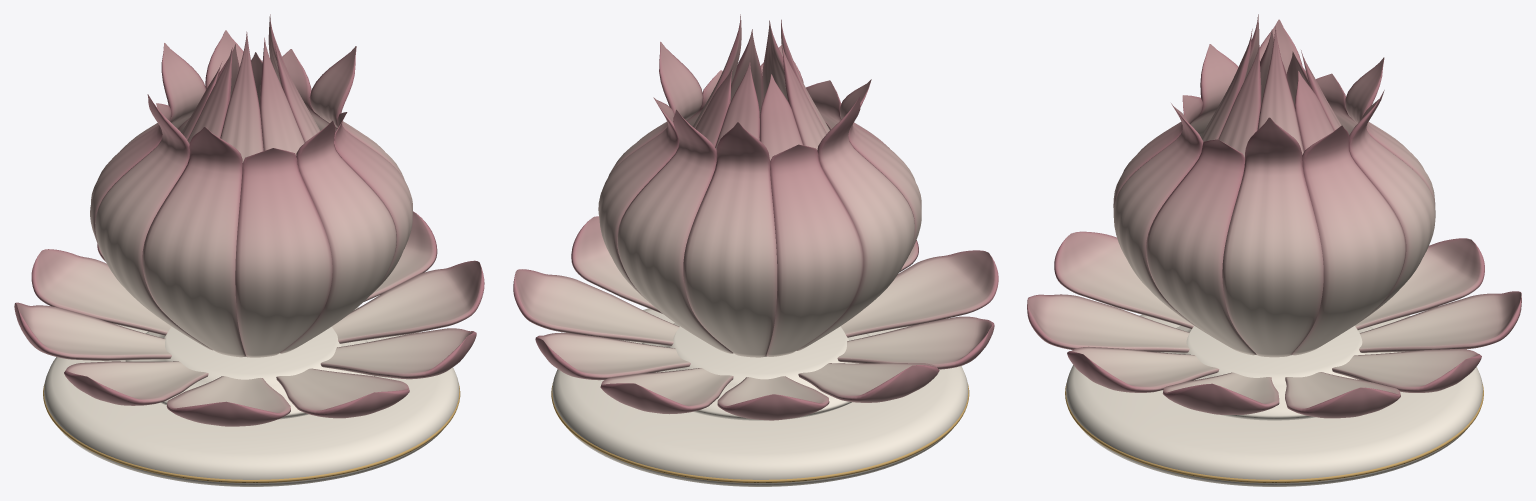
File: lotus-lantern.glb
3 views of the same model, side by side, from view 1: azimuth 30°, elevation 25°; view 2: azimuth 150°, elevation 25°; view 3: azimuth 270°, elevation 25° (orthographic).
Parts seen in each view (by area): view 1: Porcelain_Pedestal, Petal_Middle_10, Petal_Middle_09, Petal_Middle_01, Petal_Middle_08, Petal_Outer_03, Petal_Outer_07, Petal_Outer_08, Pedestal_Raised_Foot, Petal_Outer_02, Petal_Outer_09, Petal_Outer_01 (+14 smaller); view 2: Porcelain_Pedestal, Petal_Middle_06, Petal_Middle_07, Petal_Middle_05, Petal_Middle_08, Petal_Outer_10, Petal_Outer_04, Pedestal_Raised_Foot, Petal_Outer_09, Petal_Outer_05, Petal_Middle_04, Petal_Outer_06 (+15 smaller); view 3: Porcelain_Pedestal, Petal_Middle_03, Petal_Middle_04, Petal_Middle_02, Petal_Outer_01, Petal_Outer_06, Petal_Middle_01, Pedestal_Raised_Foot, Petal_Outer_10, Petal_Middle_05, Petal_Outer_07, Petal_Outer_02 (+14 smaller).
Boxes of the visible parts, <box> form: Porcelain_Pedestal: <box>44,307,459,486</box>; Petal_Middle_10: <box>235,148,332,357</box>; Petal_Middle_09: <box>142,127,245,357</box>; Petal_Middle_01: <box>280,120,396,353</box>; Petal_Middle_08: <box>95,94,212,350</box>; Petal_Outer_03: <box>331,260,484,343</box>; Petal_Outer_07: <box>31,249,171,335</box>; Petal_Outer_08: <box>14,302,171,360</box>; Pedestal_Raised_Foot: <box>125,327,375,419</box>; Petal_Outer_02: <box>320,328,476,379</box>; Petal_Outer_09: <box>64,361,208,405</box>; Petal_Outer_01: <box>276,368,409,418</box>; Porcelain_Pedestal: <box>552,308,968,486</box>; Petal_Middle_06: <box>683,122,777,357</box>; Petal_Middle_07: <box>766,144,863,356</box>; Petal_Middle_05: <box>617,109,733,353</box>; Petal_Middle_08: <box>796,97,914,350</box>; Petal_Outer_10: <box>840,250,998,337</box>; Petal_Outer_04: <box>513,269,679,345</box>; Pedestal_Raised_Foot: <box>642,323,870,420</box>; Petal_Outer_09: <box>837,316,994,369</box>; Petal_Outer_05: <box>535,332,690,380</box>; Petal_Middle_04: <box>598,97,678,300</box>; Petal_Outer_06: <box>600,368,733,414</box>; Porcelain_Pedestal: <box>1066,314,1482,486</box>; Petal_Middle_03: <box>1222,117,1323,357</box>; Petal_Middle_04: <box>1291,125,1406,355</box>; Petal_Middle_02: <box>1146,139,1256,355</box>; Petal_Outer_01: <box>1027,294,1189,352</box>; Petal_Outer_06: <box>1359,291,1521,352</box>; Petal_Middle_01: <box>1113,103,1216,339</box>; Pedestal_Raised_Foot: <box>1161,326,1398,420</box>; Petal_Outer_10: <box>1054,231,1193,329</box>; Petal_Middle_05: <box>1346,90,1435,330</box>; Petal_Outer_07: <box>1355,238,1484,329</box>; Petal_Outer_02: <box>1067,346,1219,392</box>.
Bounding box in the file's own units: 3.01 × 2.72 × 3.15.
